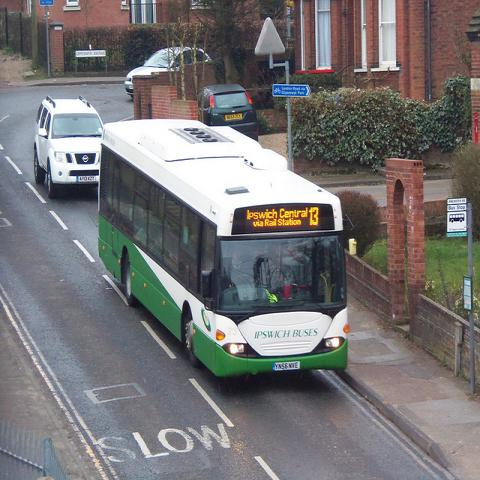bus: (98, 116, 350, 383)
car: (34, 95, 104, 201), (124, 46, 211, 100), (195, 80, 260, 140)
